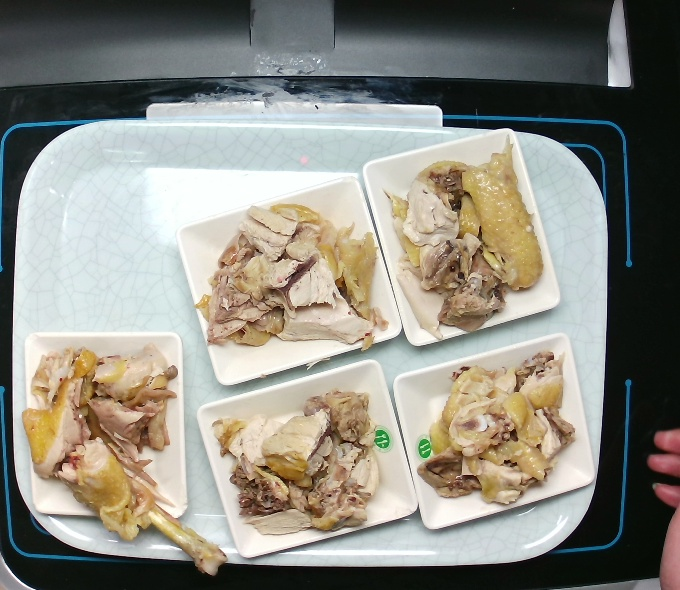wcq-BaiQieJi: (16, 336, 234, 582), (373, 129, 548, 347), (191, 196, 392, 359), (411, 347, 581, 512), (210, 384, 385, 537)
